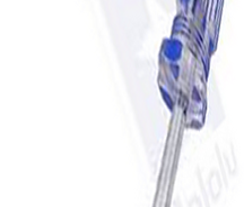Screwdriver: (158, 1, 214, 207)
